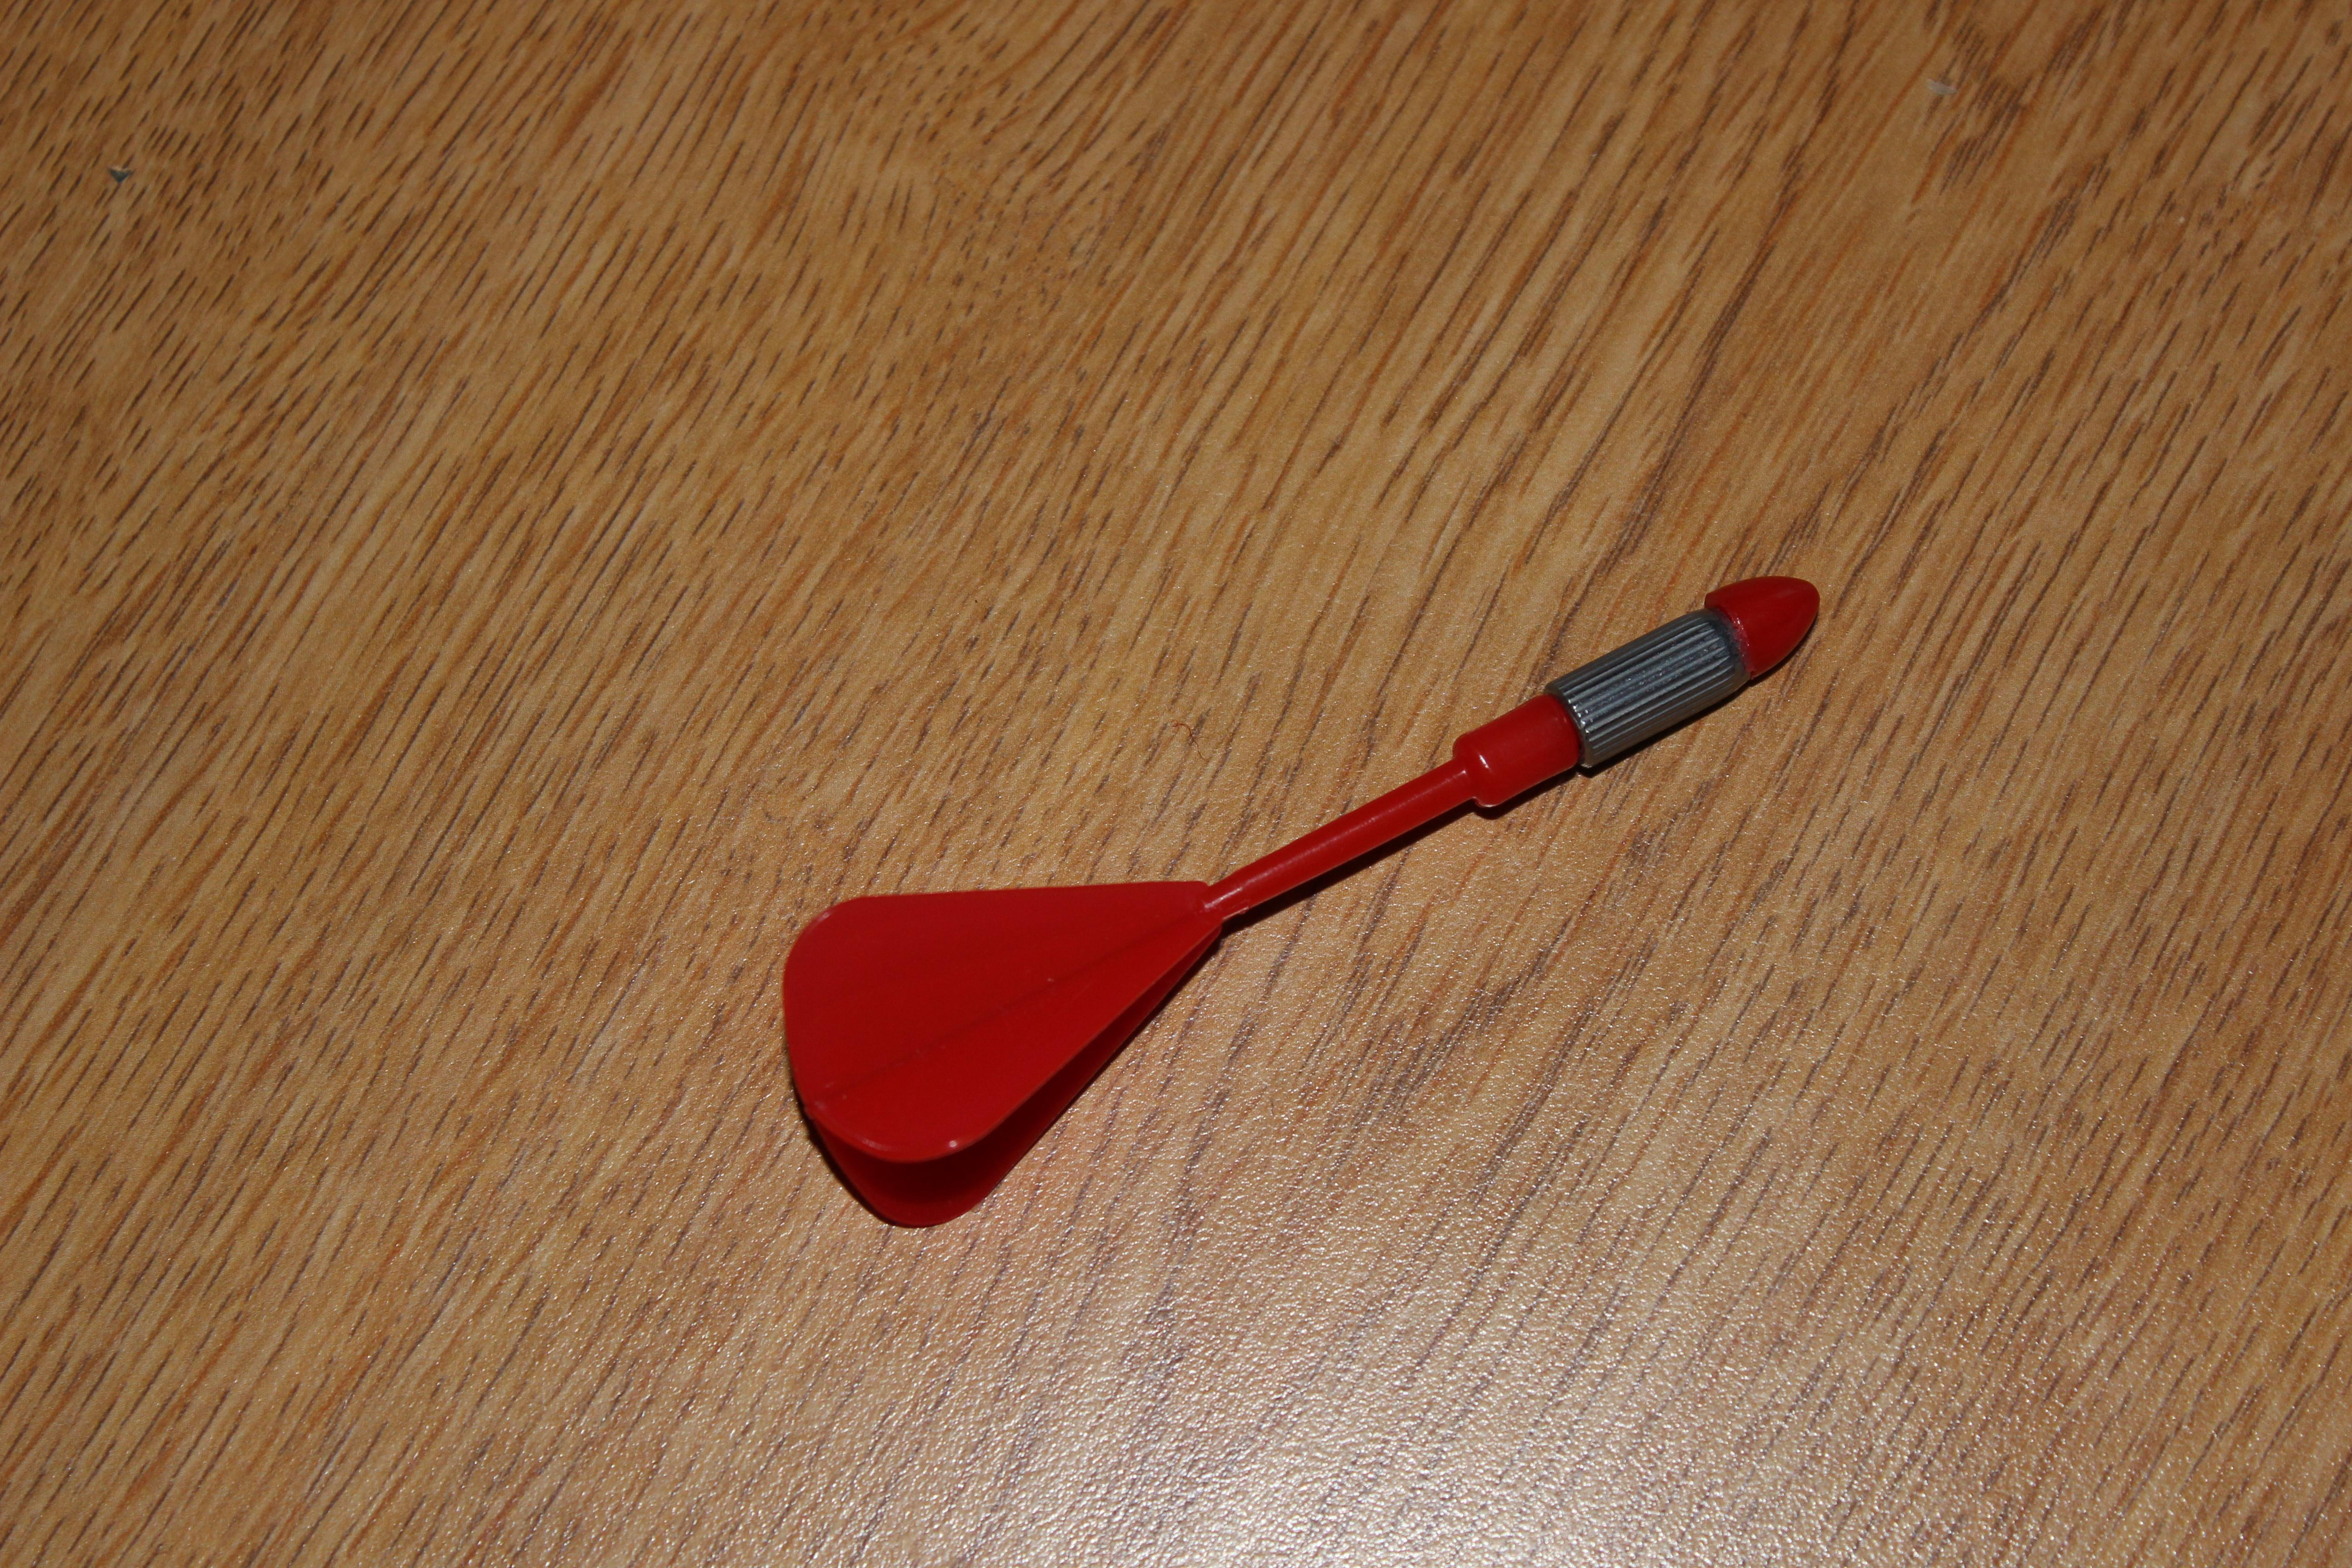redDart: (745, 539, 1869, 1258)
